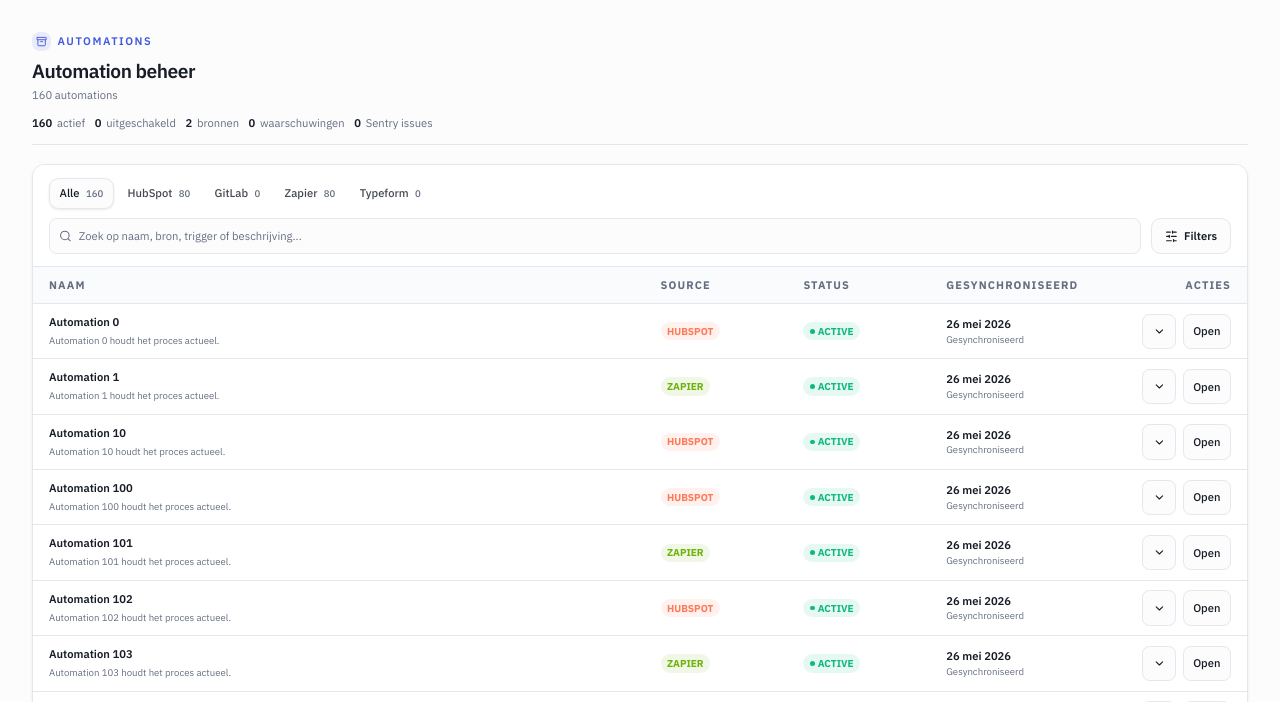
Test case: Automations overview UI › renders a window of rows for large catalogs while search still covers all automations
Expected: the row "Automation 159" is not shown
Type "Automation 159" into the field with placeholder "Zoek op naam, bron, trigger of beschrijving...".
click(595, 236); type("Automation 159")  # box [49, 218, 1142, 254]
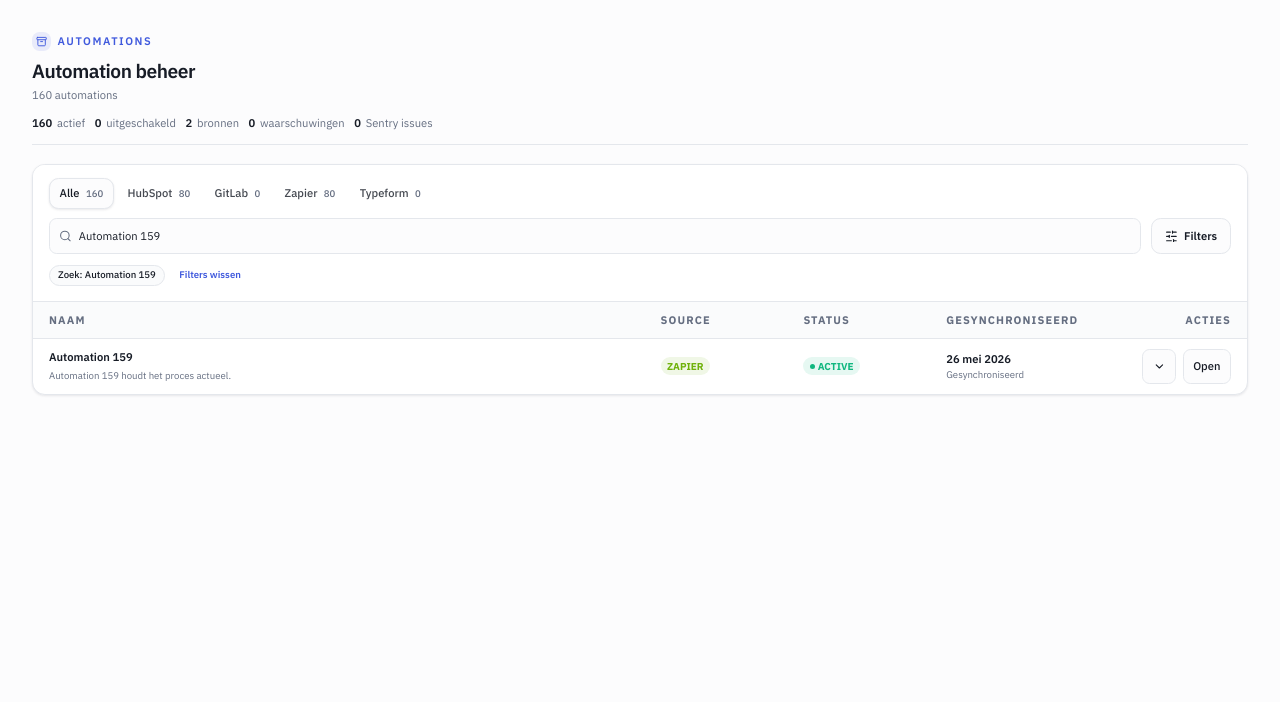
Result: the row "Automation 159" is shown at [33, 339, 1247, 394]
